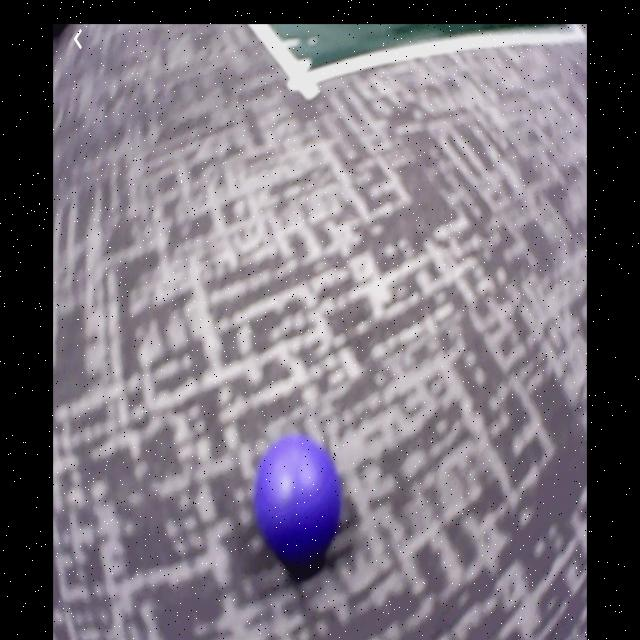ball: (255, 435, 343, 560)
